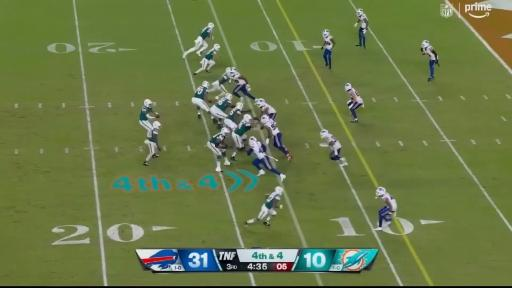Helmet: (376, 187, 385, 196), (256, 98, 265, 107), (320, 130, 329, 138), (144, 99, 152, 107), (153, 121, 161, 129), (261, 115, 269, 123), (243, 114, 251, 122), (236, 102, 243, 110), (225, 93, 232, 101), (221, 128, 230, 134), (345, 83, 352, 90), (213, 43, 220, 50), (422, 40, 429, 47), (202, 81, 209, 88), (275, 187, 283, 193), (323, 30, 329, 37), (357, 9, 363, 15), (231, 67, 237, 73), (250, 136, 257, 141), (226, 68, 231, 73), (208, 23, 214, 27)
Jersey: (265, 192, 281, 209), (250, 142, 266, 159), (382, 192, 396, 211), (235, 121, 251, 136), (264, 119, 279, 135), (327, 135, 341, 151), (210, 133, 226, 146), (227, 108, 241, 122), (348, 88, 361, 102), (216, 98, 230, 111), (424, 46, 436, 60), (140, 106, 152, 120), (194, 86, 206, 99), (233, 73, 246, 85), (148, 128, 158, 143), (261, 104, 276, 114), (205, 48, 217, 60), (324, 35, 333, 50), (200, 27, 211, 39), (358, 14, 367, 28), (219, 73, 230, 84)
Player: (248, 137, 285, 181), (244, 187, 283, 227), (261, 115, 291, 161), (183, 23, 214, 58), (207, 128, 230, 172), (192, 81, 216, 123), (231, 114, 252, 160), (375, 187, 397, 230), (321, 130, 347, 166), (194, 44, 220, 75), (211, 94, 234, 128), (139, 99, 159, 137), (224, 102, 250, 131), (144, 121, 161, 165), (208, 68, 232, 99), (421, 40, 438, 81), (345, 84, 363, 122), (232, 71, 255, 99), (322, 30, 335, 69), (355, 9, 368, 47), (256, 99, 276, 119)
